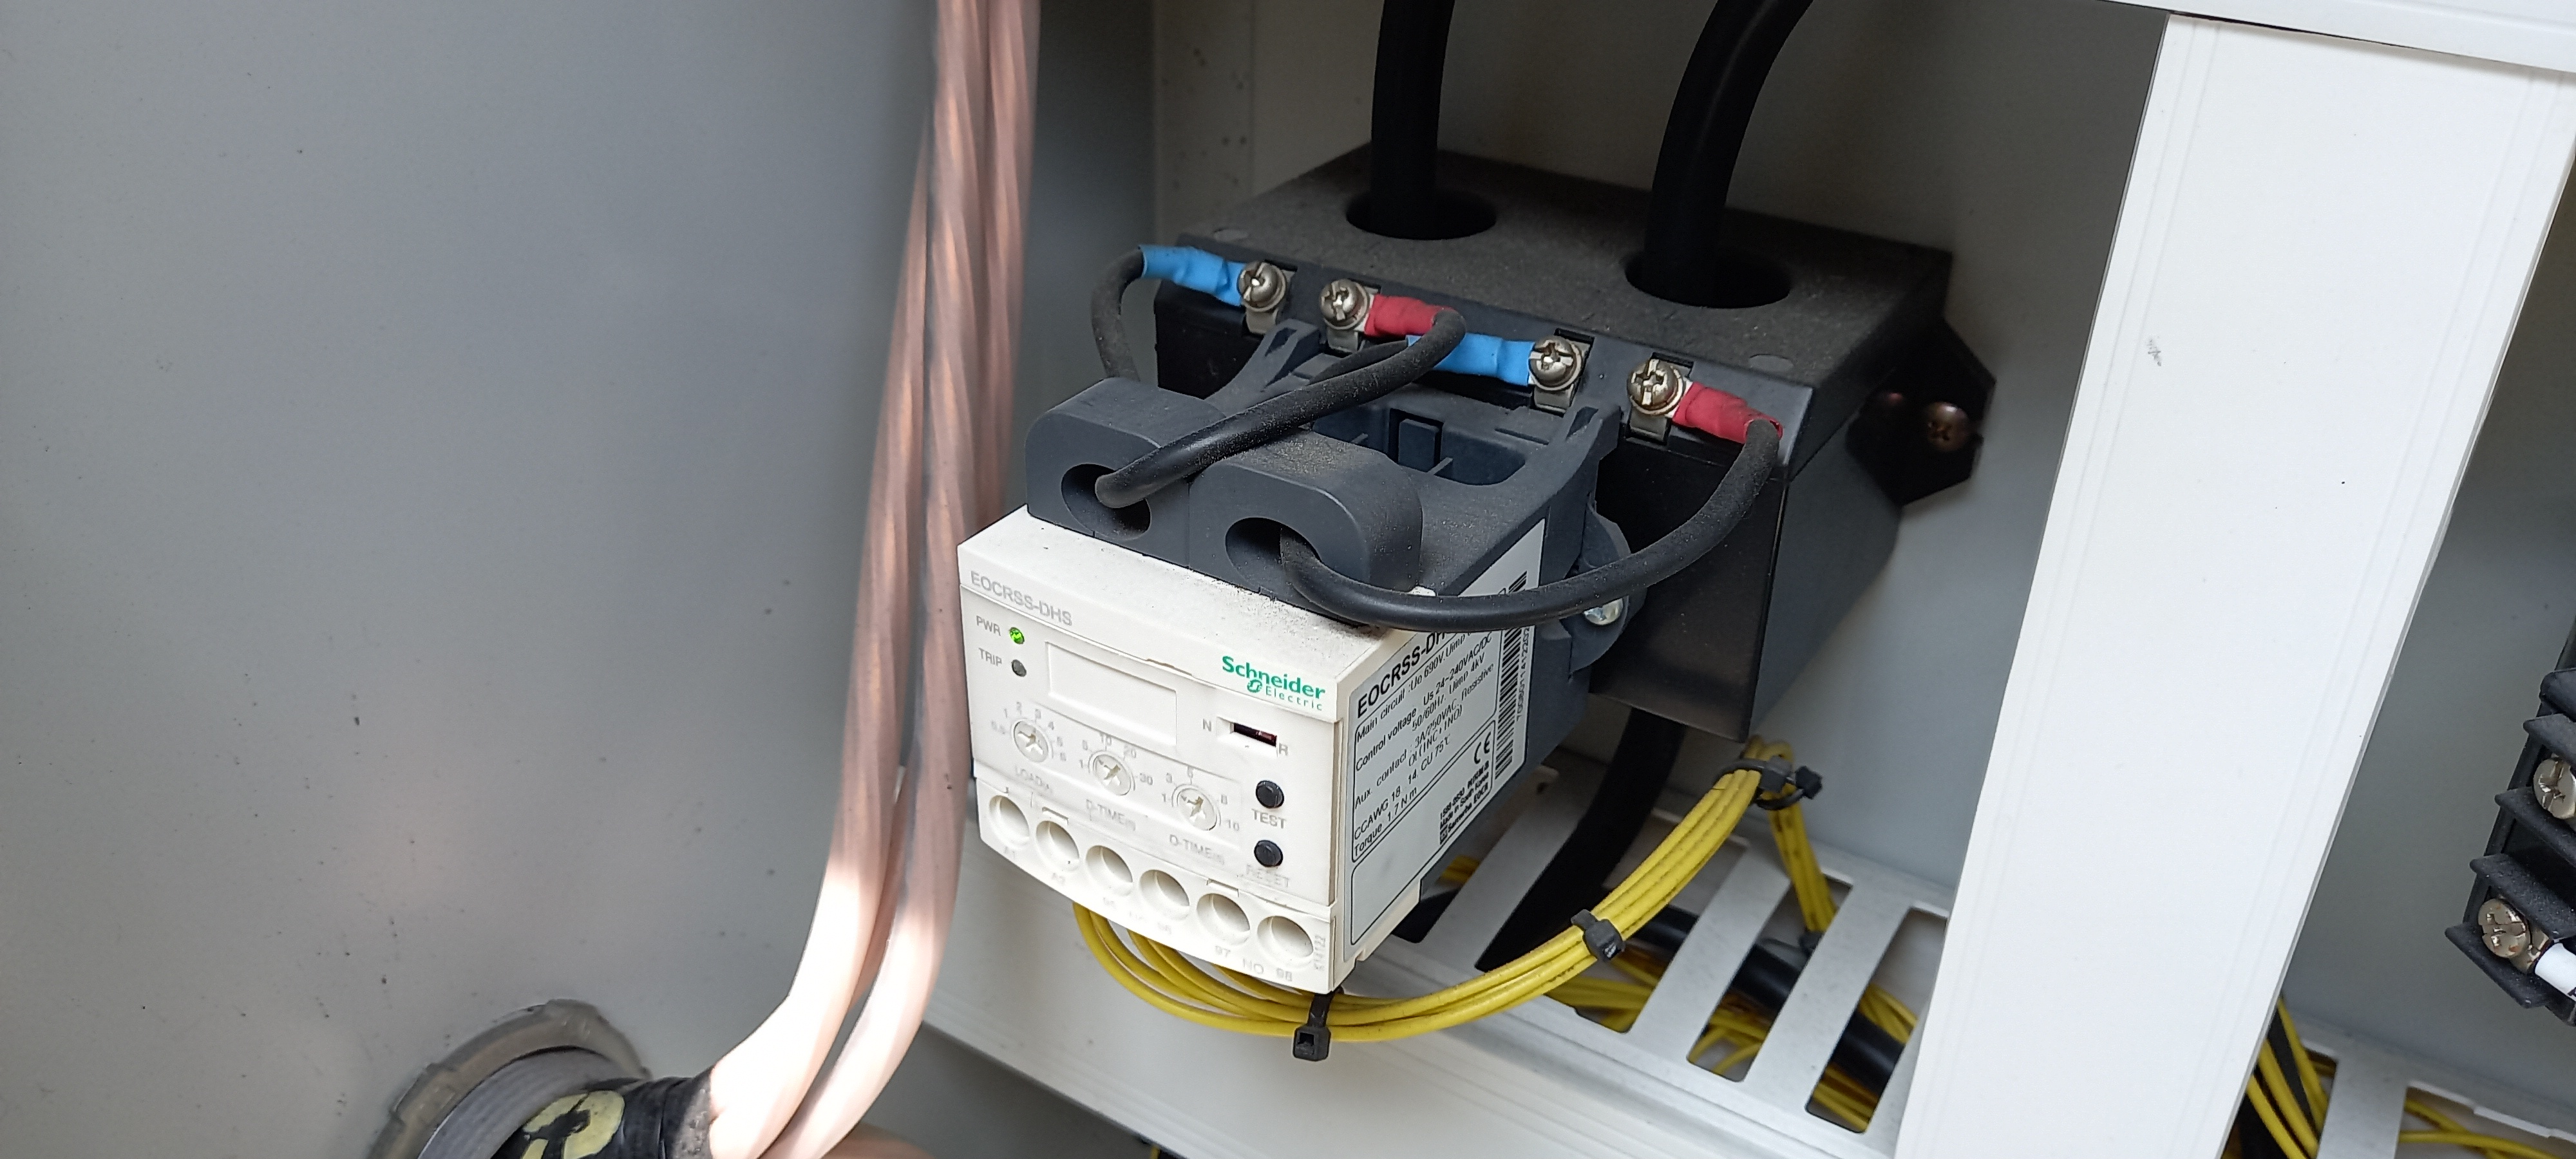monitoring: (877, 167, 1999, 1118)
